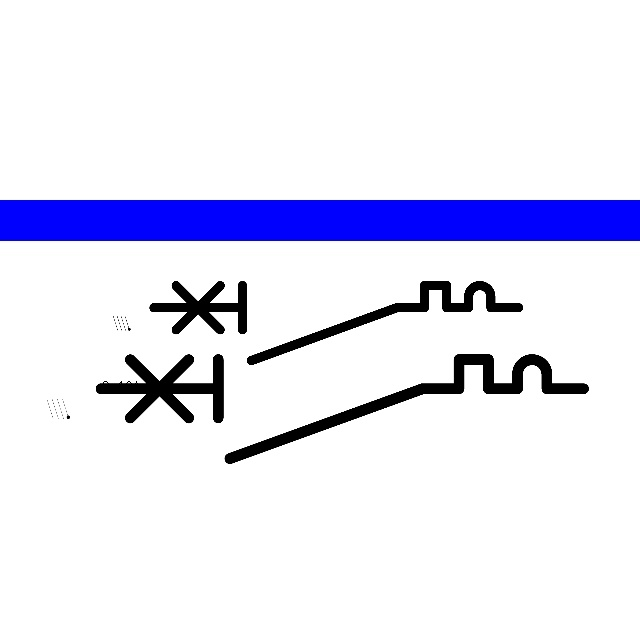interruptor_termomagnetico: (88, 347, 596, 471), (144, 276, 527, 370)
